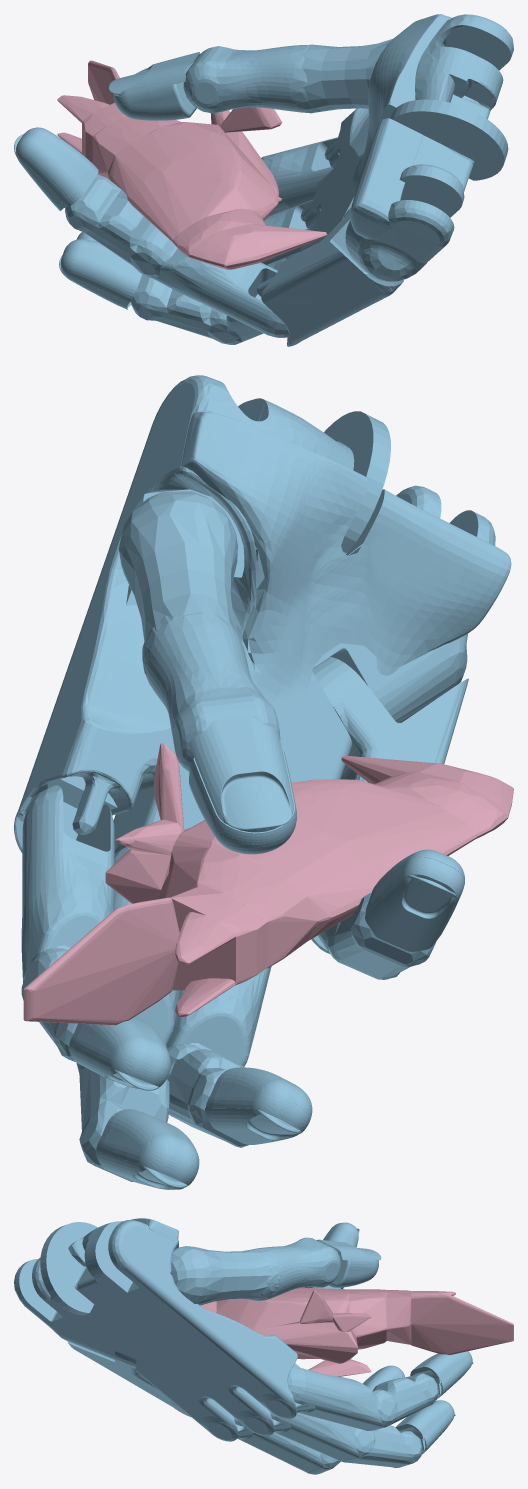
The picture shows the model from 3 angles, top to bottom: view 1: azimuth 30°, elevation 25°; view 2: azimuth 150°, elevation 25°; view 3: azimuth 270°, elevation 25°; orthographic projection. The views are drawn at different scales.
Visible parts, largest first — view 1: hand_isaac_q, world; view 2: hand_isaac_q, world; view 3: hand_isaac_q, world.
Boxes of the visible parts, bbox=[...] form: hand_isaac_q: bbox=[14, 14, 513, 346]; world: bbox=[57, 60, 327, 269]; hand_isaac_q: bbox=[14, 375, 511, 1189]; world: bbox=[23, 743, 513, 1025]; hand_isaac_q: bbox=[14, 1218, 473, 1474]; world: bbox=[200, 1287, 513, 1376].
Size of the model in its own units: 0.1293 by 0.1364 by 0.2088.
